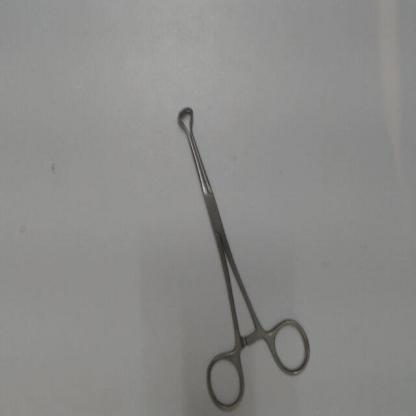Babcock Tissue Forceps: (174, 102, 315, 414)
